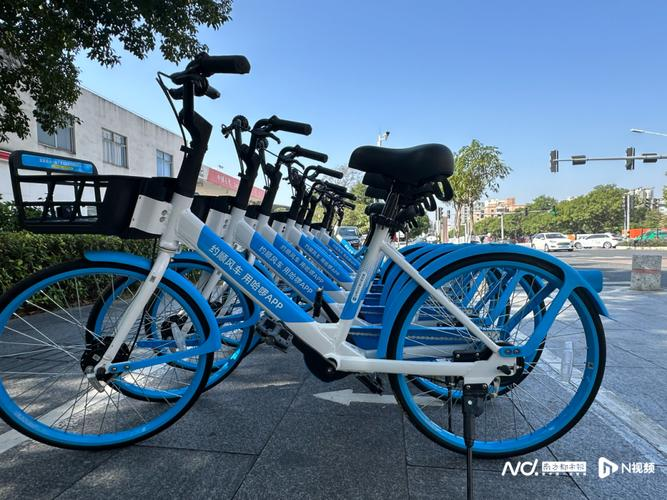单车: (1, 24, 633, 480)
